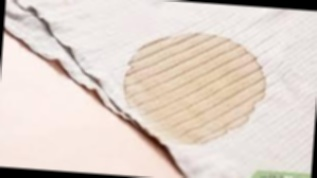coffee: (125, 29, 269, 144)
